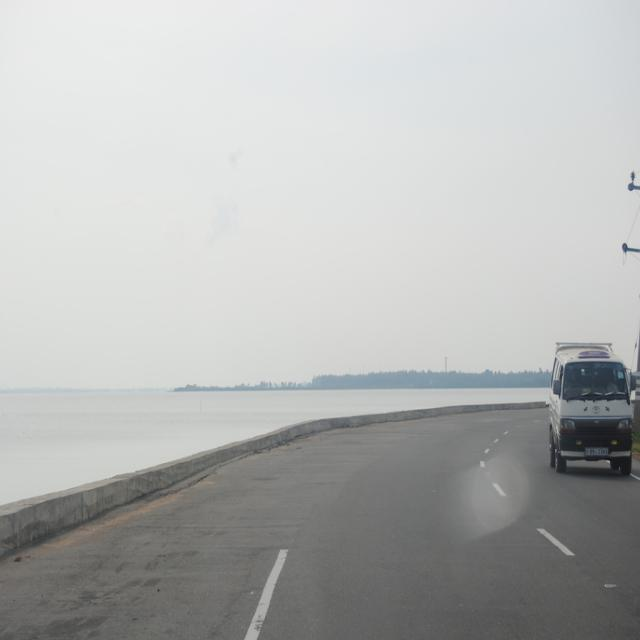car: (548, 337, 634, 479)
